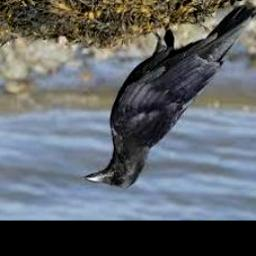Crow: (86, 4, 256, 189)
